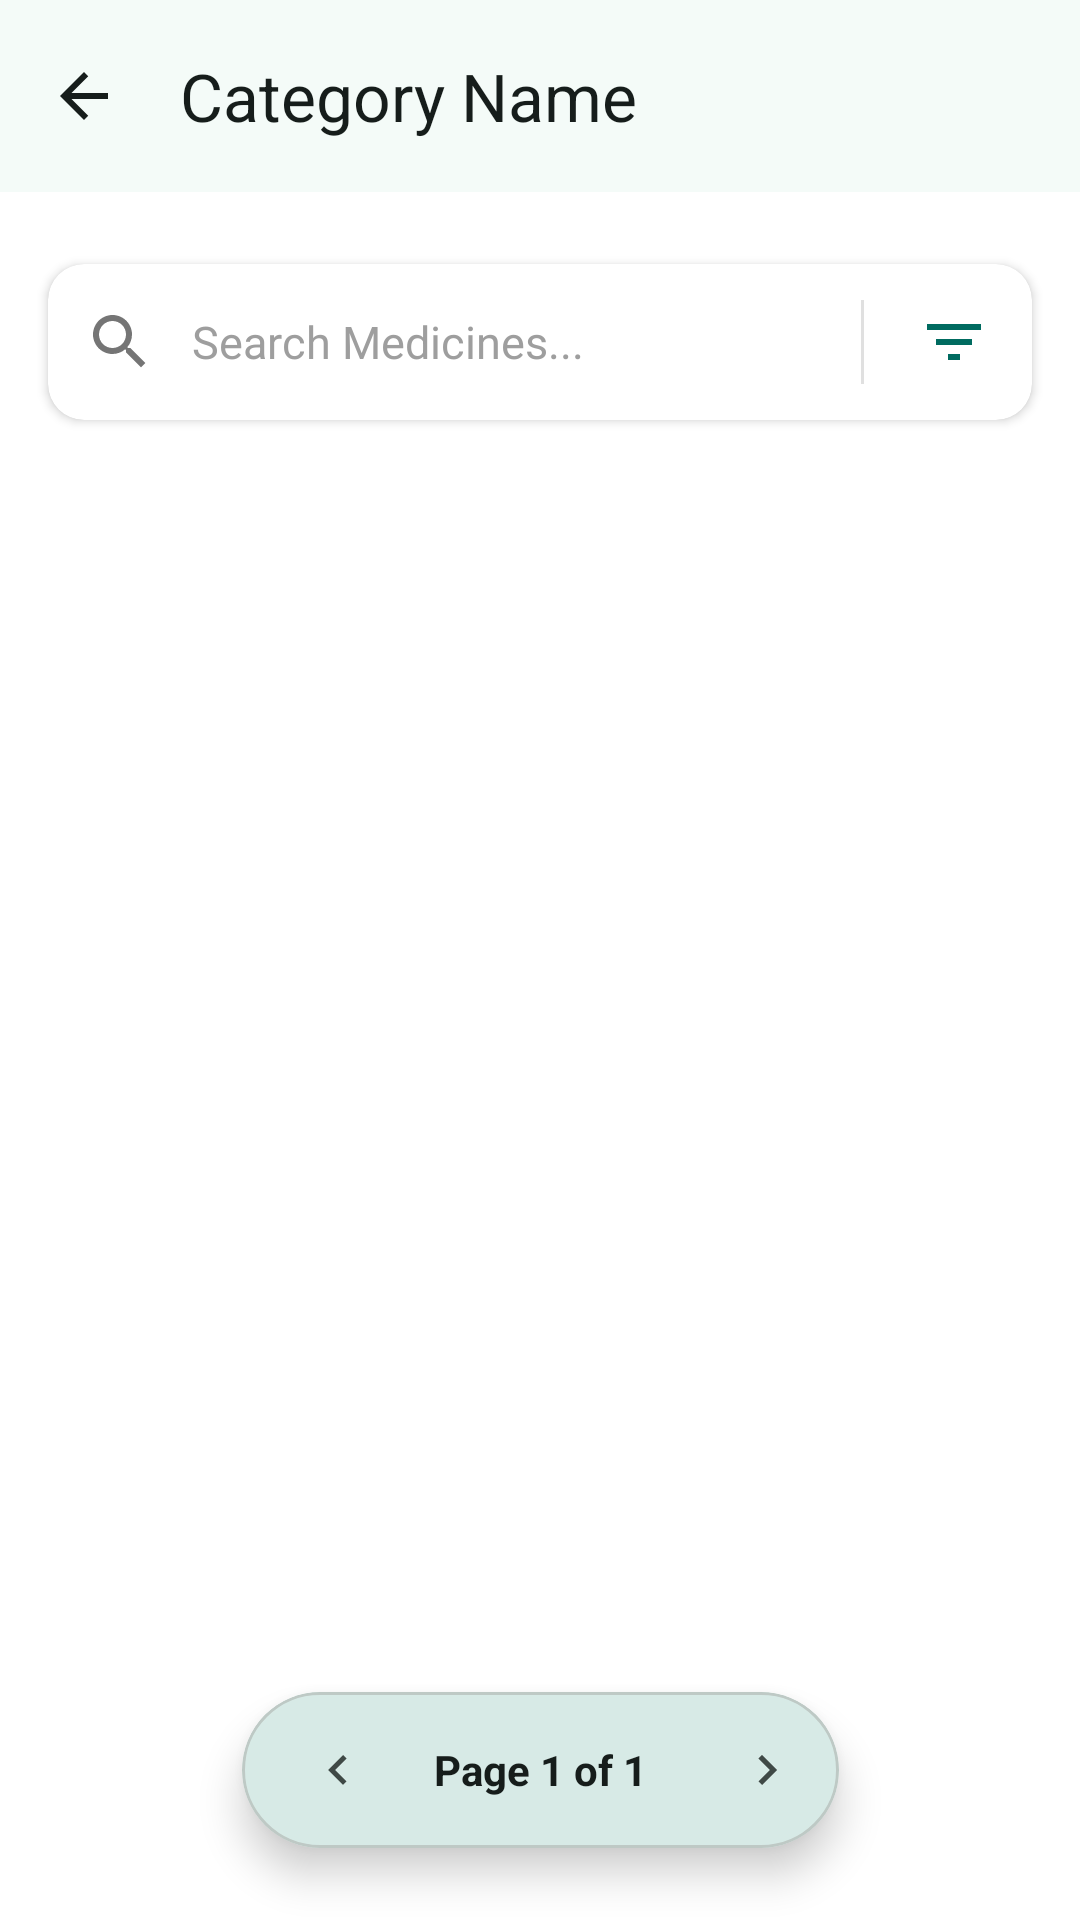

Where icons sit on this 1080 × 1920 app screen, as Rect(x1, y1, x2, y2):
chevron left: Rect(328, 1755, 347, 1785)
chevron right: Rect(758, 1755, 777, 1785)
